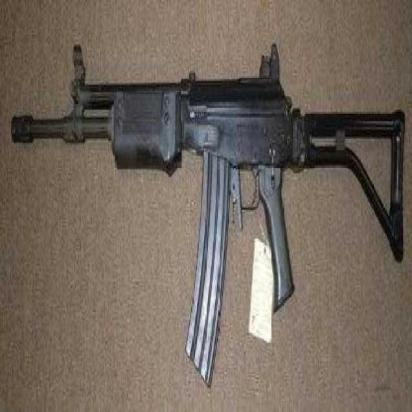Gun: (13, 48, 405, 266)
